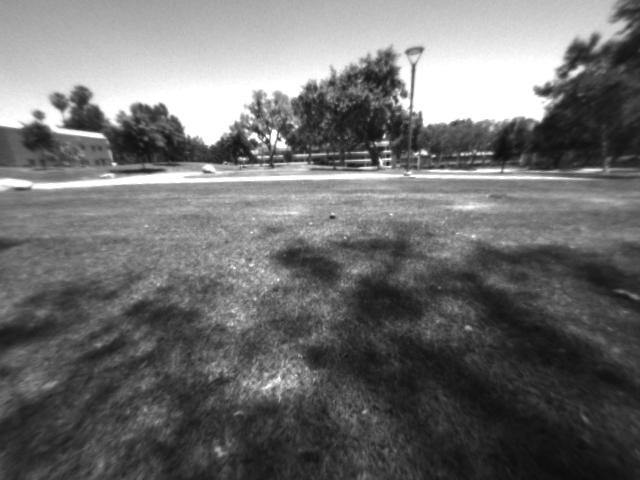dogtoy: (322, 206, 348, 227)
